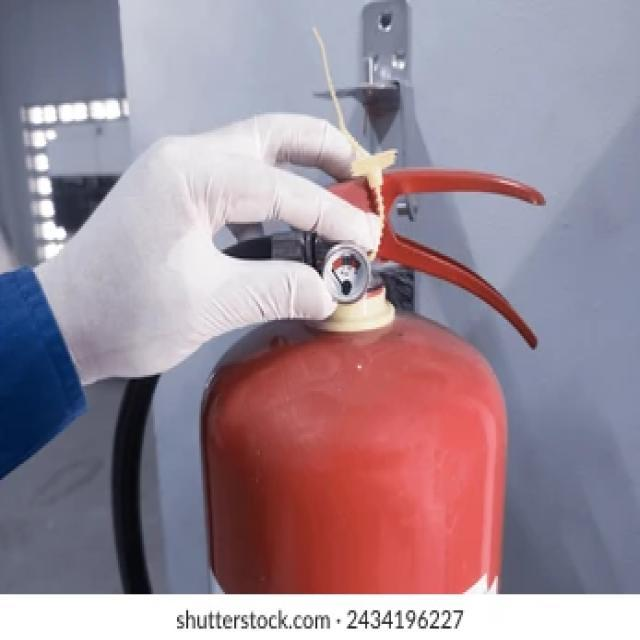pressure gauge: (321, 243, 370, 303)
